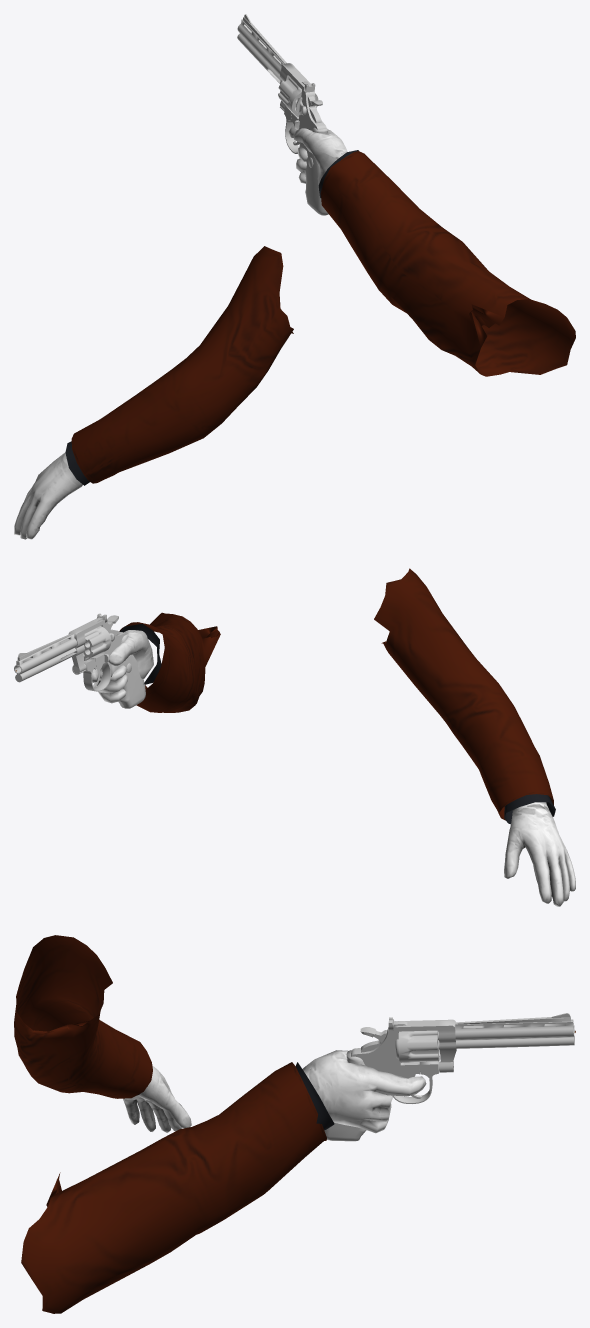
The model's file is frame_9.obj.
The picture shows the model from 3 angles, top to bottom: view 1: azimuth 30°, elevation 25°; view 2: azimuth 150°, elevation 25°; view 3: azimuth 270°, elevation 25°; orthographic projection. The views are drawn at different scales.
Visible parts, largest first — view 1: PlayerModelMerged.001_PlayerModelMerged, Plane.008_meshId0_name; view 2: PlayerModelMerged.001_PlayerModelMerged, Plane.008_meshId0_name, Plane.001_meshId0_name.001; view 3: PlayerModelMerged.001_PlayerModelMerged, Plane.008_meshId0_name, Plane.001_meshId0_name.001.
Boxes of the visible parts, box(x1,y1,x2,y2) form: PlayerModelMerged.001_PlayerModelMerged: box(14, 126, 575, 539); Plane.008_meshId0_name: box(237, 14, 328, 215); PlayerModelMerged.001_PlayerModelMerged: box(92, 568, 575, 906); Plane.008_meshId0_name: box(14, 613, 145, 708); Plane.001_meshId0_name.001: box(83, 626, 111, 660); PlayerModelMerged.001_PlayerModelMerged: box(14, 935, 426, 1313); Plane.008_meshId0_name: box(324, 1013, 574, 1141); Plane.001_meshId0_name.001: box(398, 1030, 439, 1062).
Bounding box in the file's own units: 1.15 × 0.651 × 0.9565.
